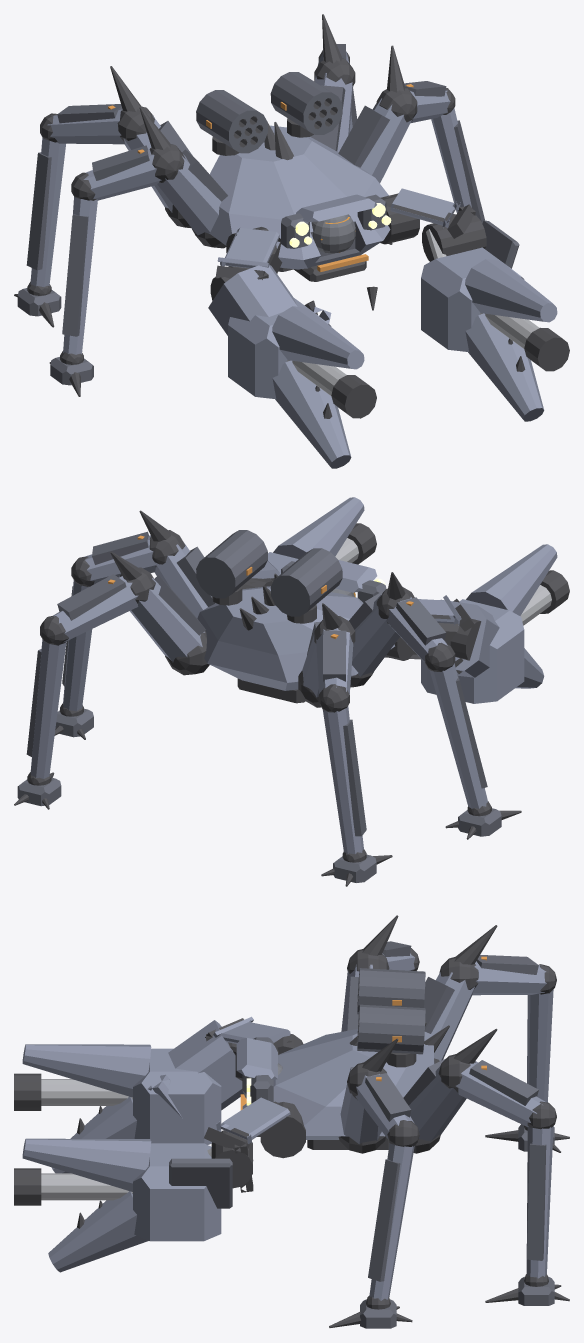
File: pincher.glb
3 renders of one model, top to bottom at view 1: azimuth 30°, elevation 25°; view 2: azimuth 150°, elevation 25°; view 3: azimuth 270°, elevation 25°, orthographic.
Visible parts, largest first — view 1: carapace, palm1, finger-1, finger1, palm-1, dactyl-1, dactyl1, fore-1, rockets1, rockets-1, femur0-1, tarsus0-1_top (+37 smaller); view 2: carapace, palm-1, rockets1, rockets-1, tarsus0-1, tarsus11, dactyl-1, femur11, dactyl1, tarsus1-1, femur0-1, tarsus01 (+35 smaller); view 3: carapace, palm1, palm-1, dactyl-1, dactyl1, finger1, fore-1, rockets1, rockets-1, tarsus1-1, fore_shell1, femur11 (+37 smaller).
Boxes of the visible parts, x1,y1,x2,y2 form: carapace: (209, 125, 390, 269); palm1: (421, 247, 524, 351); finger-1: (272, 360, 351, 468); finger1: (465, 313, 544, 421); palm-1: (228, 297, 331, 399); dactyl-1: (272, 306, 364, 369); dactyl1: (465, 259, 557, 322); fore-1: (208, 264, 331, 335); rockets1: (270, 72, 342, 134); rockets-1: (196, 90, 267, 153); femur0-1: (157, 154, 221, 235); tarsus0-1_top: (62, 214, 88, 336); carapace: (197, 586, 394, 690); palm-1: (421, 599, 524, 703); rockets1: (196, 530, 267, 598); rockets-1: (270, 548, 342, 616); tarsus0-1: (429, 663, 487, 808); tarsus11: (30, 639, 66, 778); dactyl-1: (466, 544, 557, 615); femur11: (130, 578, 204, 662); dactyl1: (273, 497, 364, 558); tarsus1-1: (323, 706, 363, 854); femur0-1: (352, 594, 399, 676); tarsus01: (63, 580, 92, 711); carapace: (242, 1029, 434, 1139); palm1: (133, 1143, 221, 1241); palm-1: (133, 1048, 221, 1144); dactyl-1: (22, 1044, 151, 1097); dactyl1: (22, 1138, 151, 1191); finger1: (48, 1191, 148, 1272); fore-1: (148, 1020, 243, 1118); rockets1: (357, 1004, 425, 1054); rockets-1: (357, 968, 425, 1014); tarsus1-1: (527, 989, 553, 1102); fore_shell1: (169, 1158, 232, 1208); femur11: (409, 1066, 466, 1141).
Bounding box in the file's own units: 26.61 × 14.12 × 28.8.
